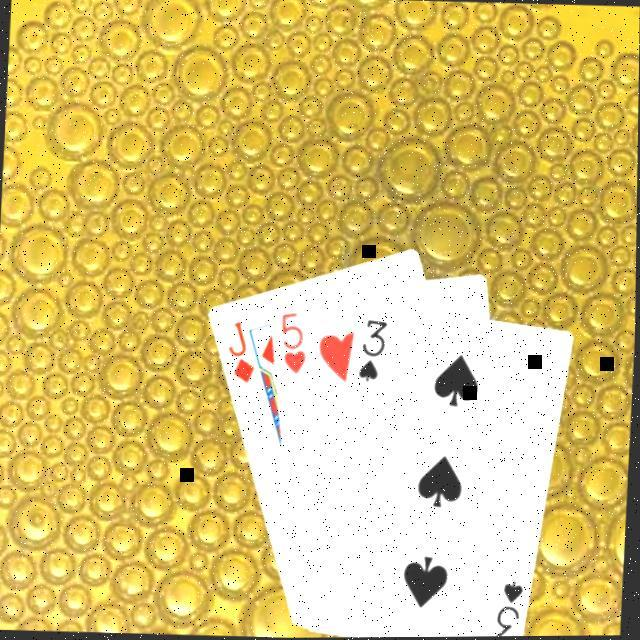3S: (357, 316, 392, 386), (495, 578, 530, 637)
5H: (278, 310, 313, 379)
JD: (225, 319, 262, 388)
